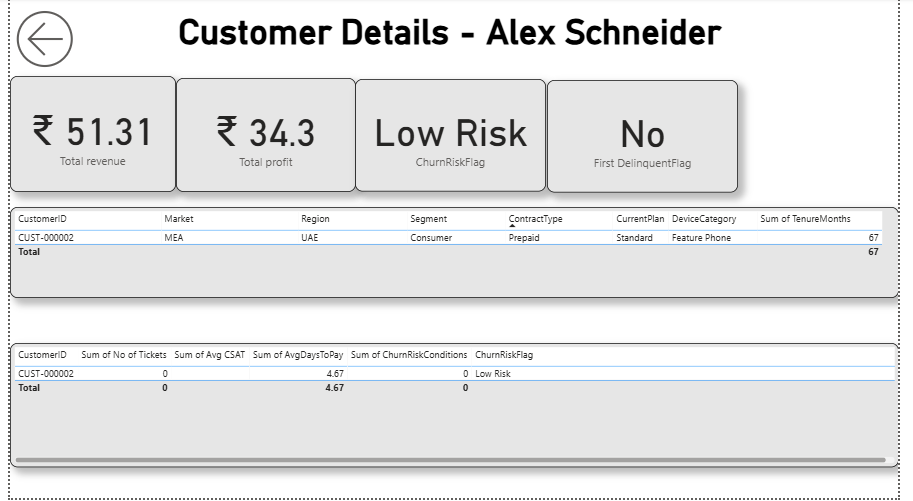

What the dashboard file says about the page in this screenshot:
{"tool":"powerbi","page":{"name":"Customer Details","canvas":[1280,720],"ordinal":11},"visuals":[{"type":"actionButton","box":[0,0,100.1,118.5],"z":9000},{"type":"card","fields":{"Values":["Measure.Customer Details Title"]},"box":[120.3,4.1,1024.8,74.7],"z":11000},{"type":"card","fields":{"Values":["Measure.Total revenue"]},"box":[0,111.8,238.6,166.9],"z":12000},{"type":"card","fields":{"Values":["Measure.Total profit"]},"box":[238.6,115.1,258.7,163.5],"z":13000},{"type":"card","fields":{"Values":["Min(Telecom_Customers.ChurnRiskFlag)"]},"box":[497.3,116.8,275.4,161.9],"z":14000},{"type":"card","fields":{"Values":["Min(Telecom_Usage_Fact.DelinquentFlag)"]},"box":[772.7,118.5,275.4,161.9],"z":15000},{"type":"tableEx","fields":{"Values":["Telecom_Customers.CustomerID","Telecom_Customers.Market","Telecom_Customers.Region","Telecom_Customers.Segment","Telecom_Customers.ContractType","Telecom_Customers.CurrentPlan","Telecom_Customers.DeviceCategory","Sum(Telecom_Customers.TenureMonths)"]},"box":[0,301,1280.2,131],"z":16000},{"type":"tableEx","fields":{"Values":["Telecom_Customers.CustomerID","Sum(Telecom_Customers.No of Tickets)","Sum(Telecom_Customers.Avg CSAT)","Sum(Telecom_Customers.AvgDaysToPay)","Sum(Telecom_Customers.ChurnRiskConditions)","Telecom_Customers.ChurnRiskFlag"]},"box":[0,496.8,1280.2,178.6],"z":17000}]}

Visuals, with their boxes in screenshot pixels (x1, y1, x2, y2), scaled from the page's 1280x720 canvas onto the 913x501 screenshot:
actionButton: (left=0, top=0, right=71, bottom=82)
card - Measure.Customer Details Title: (left=86, top=3, right=817, bottom=55)
card - Measure.Total revenue: (left=0, top=78, right=170, bottom=194)
card - Measure.Total profit: (left=170, top=80, right=355, bottom=194)
card - Min(Telecom_Customers.ChurnRiskFlag): (left=355, top=81, right=551, bottom=194)
card - Min(Telecom_Usage_Fact.DelinquentFlag): (left=551, top=82, right=748, bottom=195)
tableEx - Telecom_Customers.CustomerID x Telecom_Customers.Market: (left=0, top=209, right=912, bottom=301)
tableEx - Telecom_Customers.CustomerID x Sum(Telecom_Customers.No of Tickets): (left=0, top=346, right=912, bottom=470)
